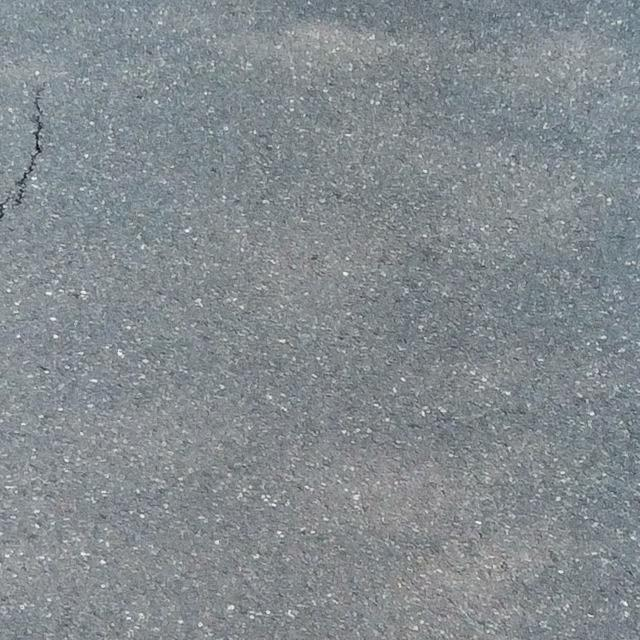LongitudinalCrack: (1, 84, 46, 220)
